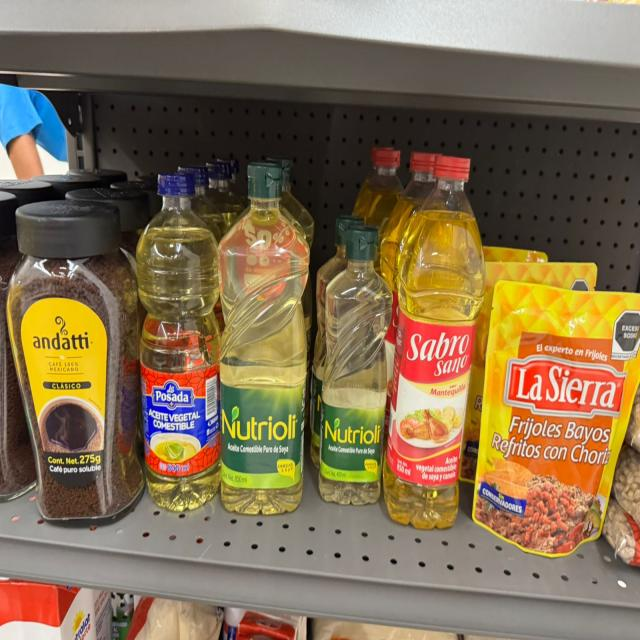ACEITE NUTRIOLI 400 ML: (319, 232, 393, 509), (309, 217, 360, 472)
ACEITE VEGETAL LA POSADA 800 ML: (139, 174, 221, 508), (179, 162, 228, 238), (211, 163, 239, 228)
Aceite Comestible Nutrioli 850ml: (217, 165, 313, 515), (282, 161, 315, 247)
Aceite Sabrosano 850ml: (381, 154, 489, 525), (381, 153, 436, 431), (353, 148, 403, 231)
Cafe Soluble Andatti 275g: (5, 203, 146, 522)
Frijol La Sierra Chorizo 430 bolsa: (469, 286, 640, 555), (459, 262, 597, 480)
Frijol Pinto La Posada 900gr: (606, 496, 640, 563), (611, 447, 640, 523), (626, 387, 639, 447)
